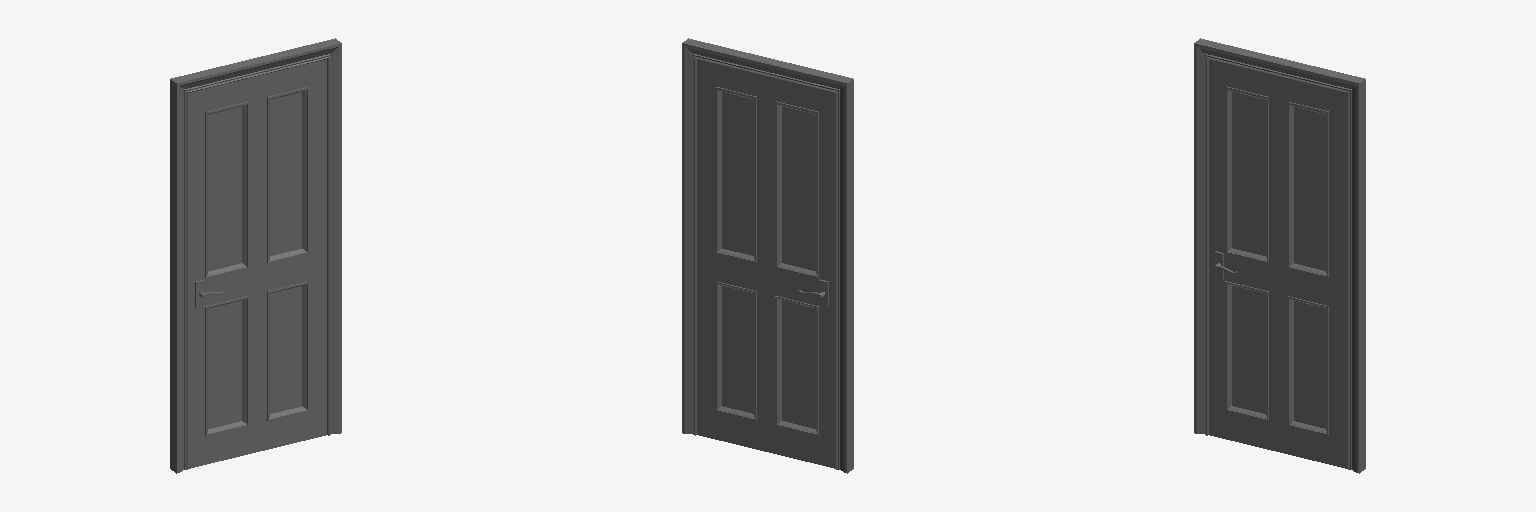
The model's file is Door.obj.
The picture shows the model from 3 angles: view 1: azimuth 30°, elevation 25°; view 2: azimuth 150°, elevation 25°; view 3: azimuth 330°, elevation 25°; orthographic projection.
Parts seen in each view (by area): view 1: Door Raised 4 Panel 01; view 2: Door Raised 4 Panel 01; view 3: Door Raised 4 Panel 01.
Boxes of the visible parts, x1=… form: Door Raised 4 Panel 01: x1=170, y1=38, x2=341, y2=473; Door Raised 4 Panel 01: x1=682, y1=38, x2=853, y2=473; Door Raised 4 Panel 01: x1=1194, y1=38, x2=1365, y2=473.
Size of the model in its own units: 0.9811 by 2.21 by 0.1376.